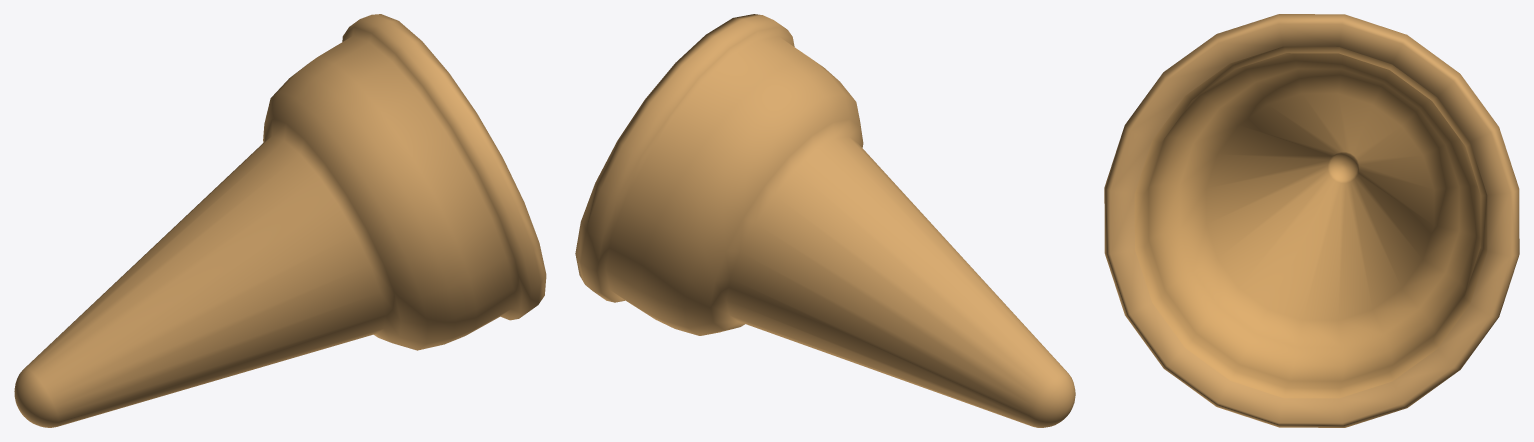
The picture shows the model from 3 angles, left to right: view 1: azimuth 30°, elevation 25°; view 2: azimuth 150°, elevation 25°; view 3: azimuth 270°, elevation 25°; orthographic projection. The views are drawn at different scales.
Parts seen in each view (by area): view 1: SM_cone; view 2: SM_cone; view 3: SM_cone.
Boxes of the visible parts, x1,y1,x2,y2 form: SM_cone: [14, 14, 546, 427]; SM_cone: [575, 14, 1075, 427]; SM_cone: [1104, 14, 1519, 427].
Bounding box in the file's own units: 368 × 237 × 227.
